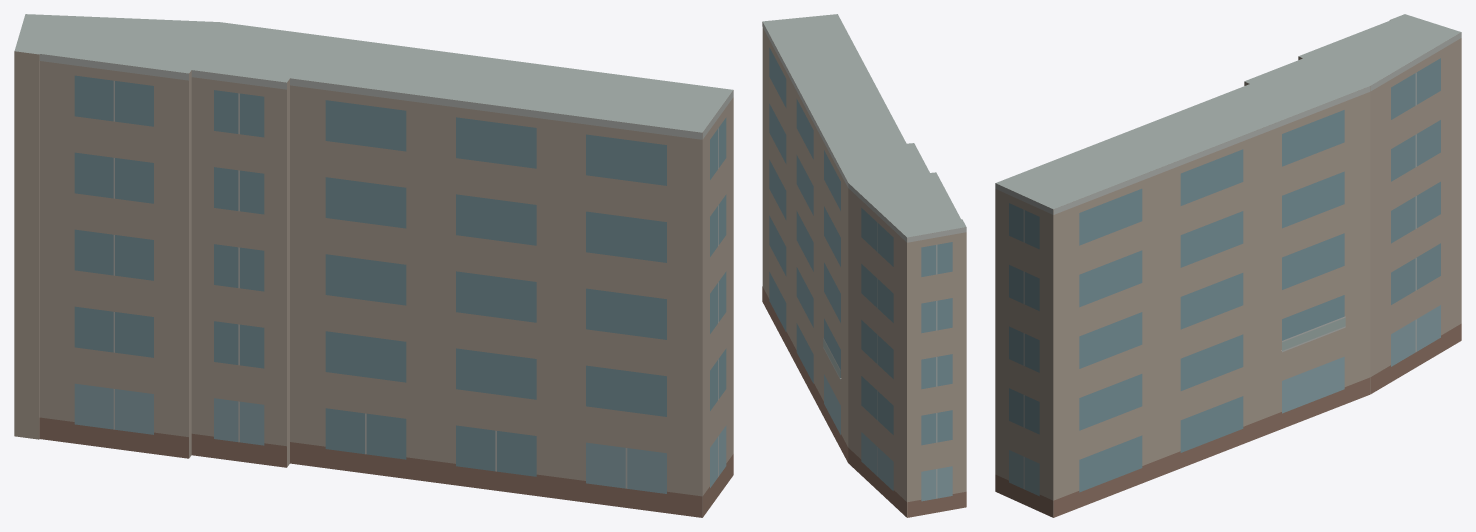
File: survey-upis-33046746.glb
The picture shows the model from 3 angles, left to right: view 1: azimuth 30°, elevation 25°; view 2: azimuth 150°, elevation 25°; view 3: azimuth 270°, elevation 25°; orthographic projection. The views are drawn at different scales.
Visible parts, largest first — view 1: survey-upis-33046746.tmp; view 2: survey-upis-33046746.tmp; view 3: survey-upis-33046746.tmp.
Boxes of the visible parts, x1=… form: survey-upis-33046746.tmp: x1=14, y1=14, x2=733, y2=517; survey-upis-33046746.tmp: x1=762, y1=14, x2=966, y2=517; survey-upis-33046746.tmp: x1=995, y1=14, x2=1461, y2=517.
Size of the model in its own units: 17.93 by 13.2 by 18.08.
